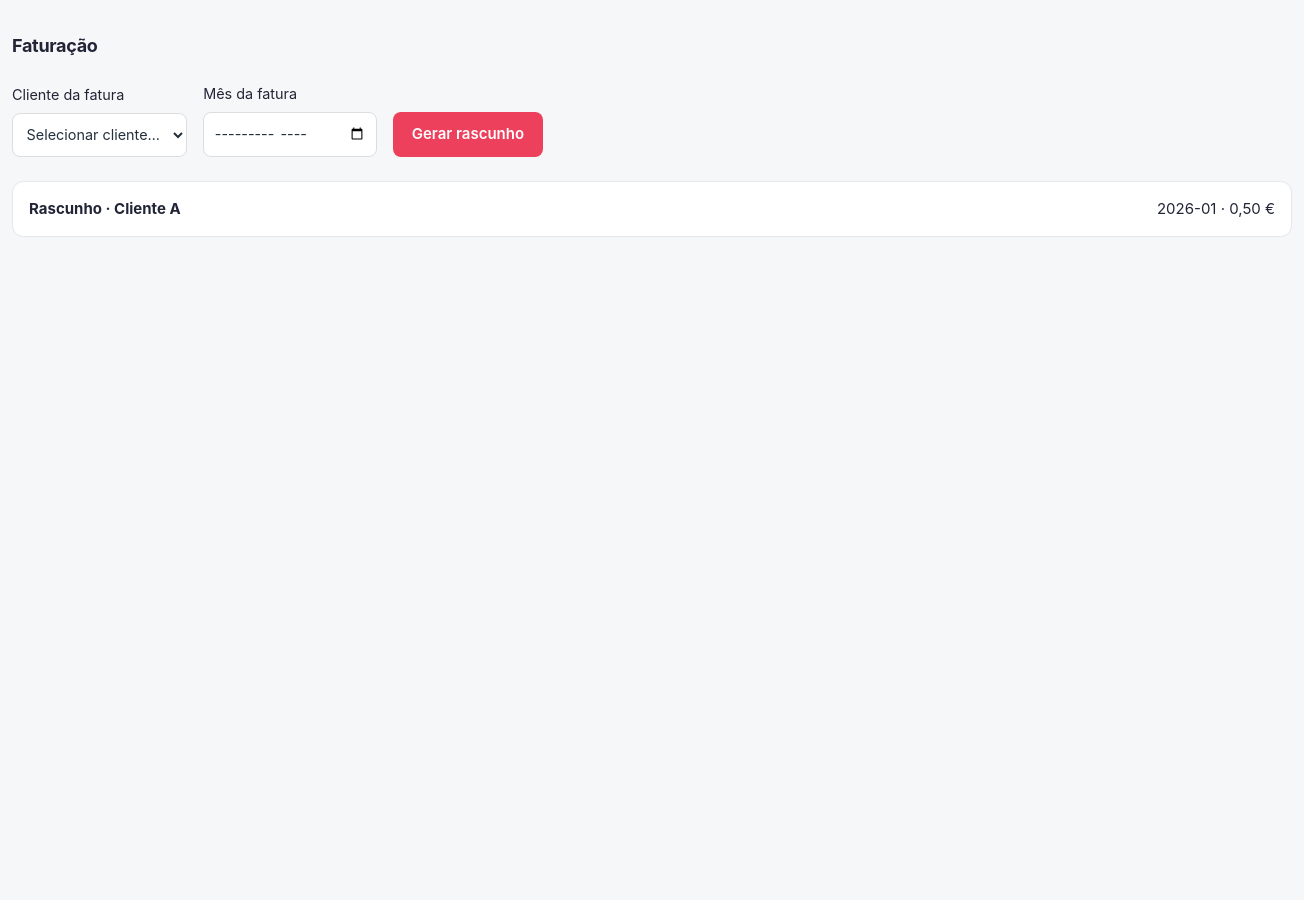
Test: rascunho bloqueado apresenta os problemas e impede emissão
Click the button "Rascunho · Cliente A 2026-01 · 0,50 €".
click(65, 208)  # box [12,181,1292,237]
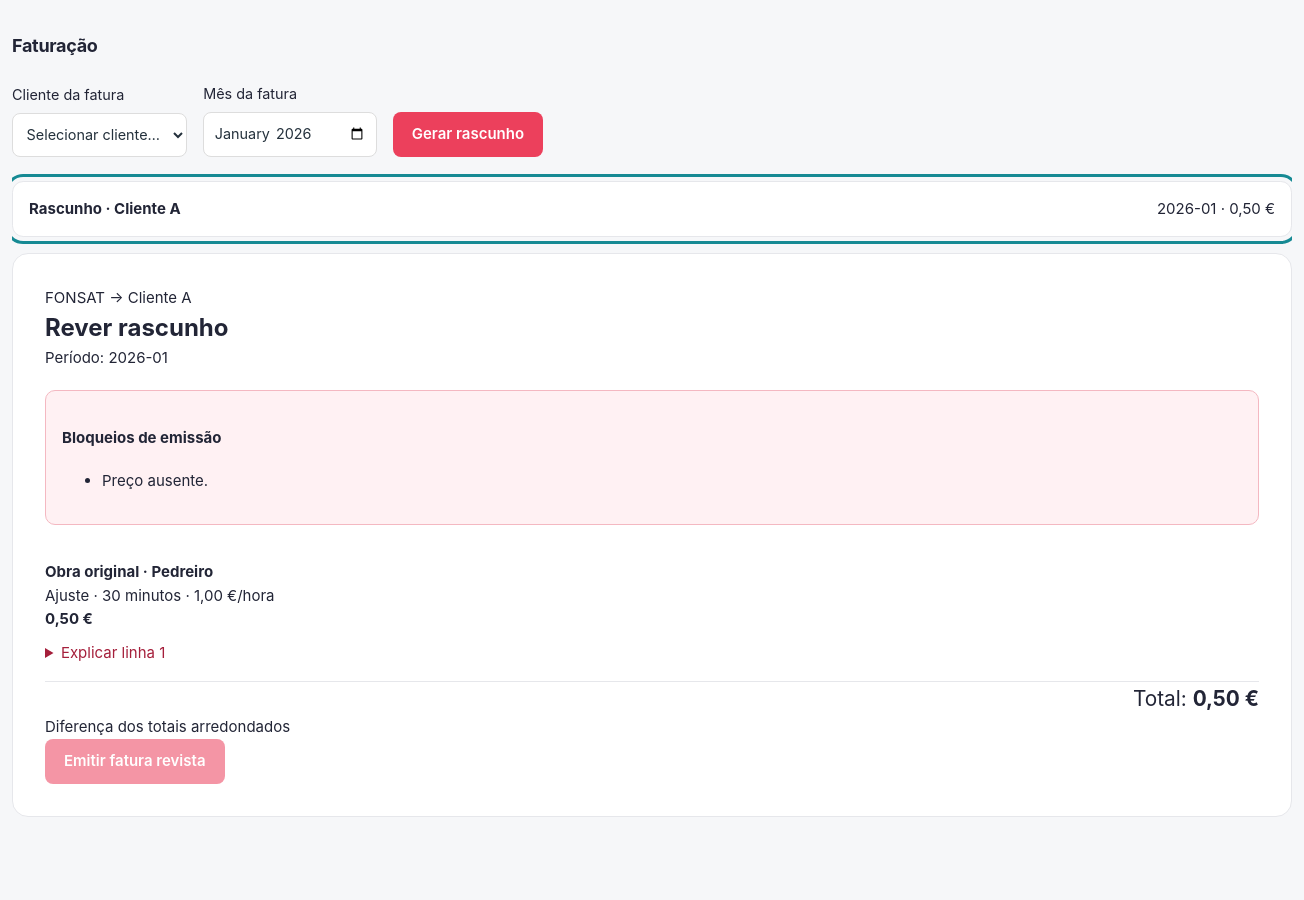
Check: the list item "Preço ausente." is shown, box [102,472,208,490]
Check: the button "Emitir fatura revista" is disabled, box [45,739,224,784]
